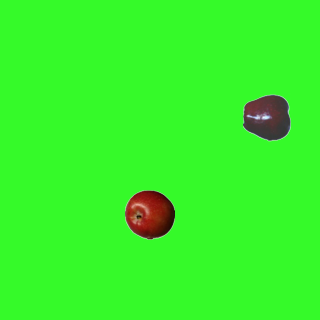Apple Braeburn: (124, 189, 174, 239)
Apple Red Delicious: (242, 92, 292, 142)
